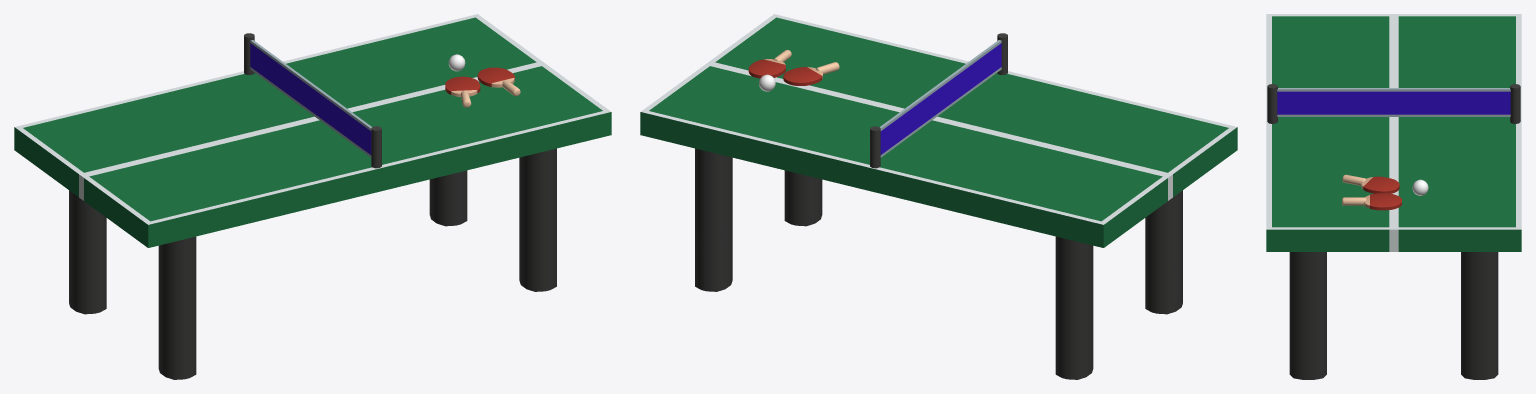
The model's file is Ping-Pong-Ttable.fbx.
3 renders of one model, left to right at view 1: azimuth 30°, elevation 25°; view 2: azimuth 150°, elevation 25°; view 3: azimuth 270°, elevation 25°, orthographic. The views are drawn at different scales.
Visible parts, largest first — view 1: Ping-Pong-Ttable; view 2: Ping-Pong-Ttable; view 3: Ping-Pong-Ttable.
Part boxes in pixels (<box>): Ping-Pong-Ttable: <box>14,14,611,379</box>; Ping-Pong-Ttable: <box>640,14,1237,379</box>; Ping-Pong-Ttable: <box>1266,14,1521,379</box>.
Bounding box in the file's own units: 2 × 0.8774 × 1.
